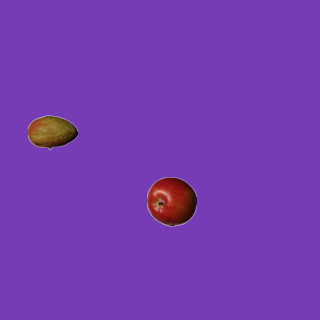Apple Braeburn: (146, 176, 196, 226)
Papaya: (27, 107, 77, 157)
